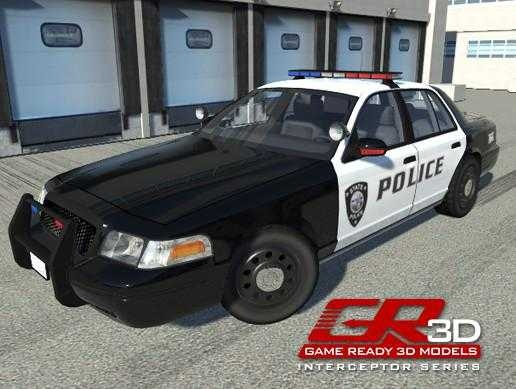Police Car: (18, 56, 510, 309)
